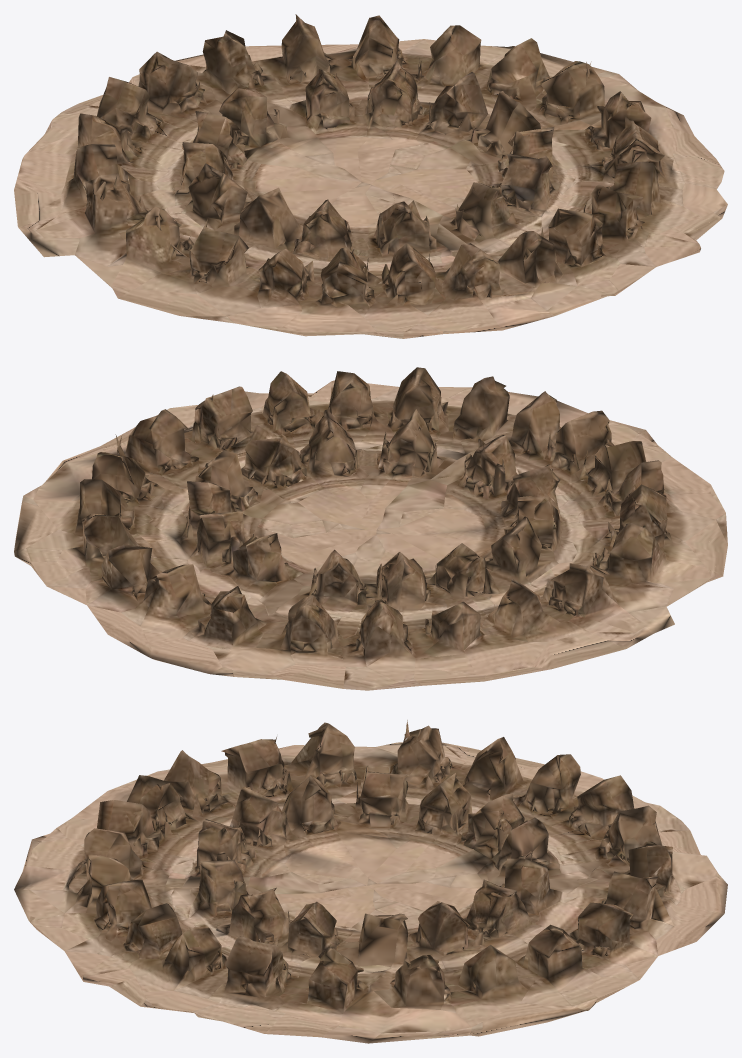
The model's file is village_large_lod.glb.
3 renders of one model, top to bottom at view 1: azimuth 30°, elevation 25°; view 2: azimuth 150°, elevation 25°; view 3: azimuth 270°, elevation 25°, orthographic.
Bounding box in the file's own units: 1.9 × 0.1713 × 1.9.
1 material, 1 textured.
